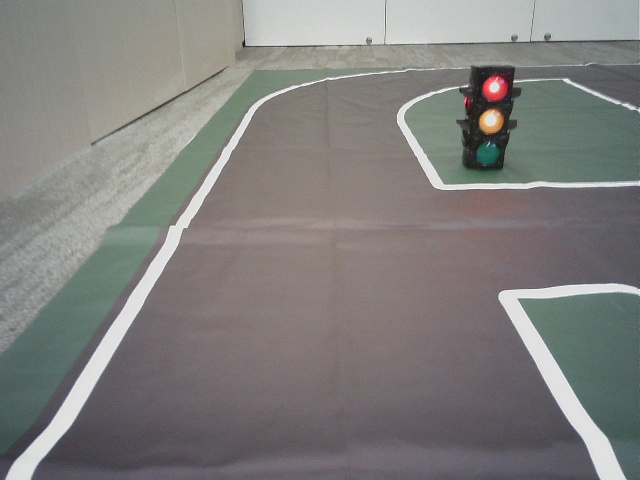red: (472, 71, 505, 165)
